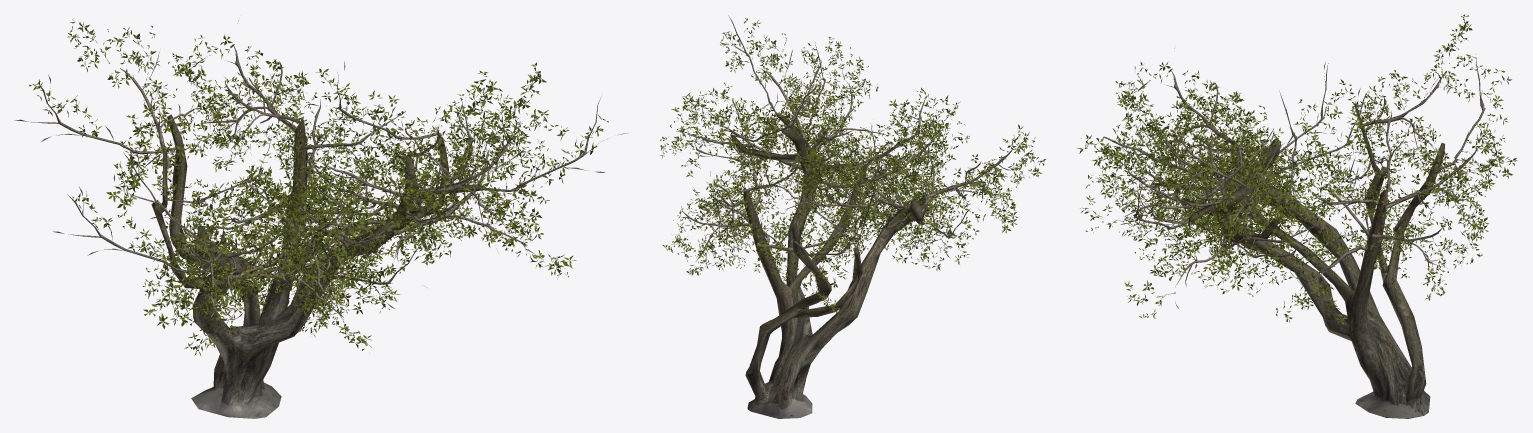
The model's file is ph_island_tree2.glb.
3 views of the same model, side by side, from view 1: azimuth 30°, elevation 25°; view 2: azimuth 150°, elevation 25°; view 3: azimuth 270°, elevation 25° (orthographic). The views are drawn at different scales.
Parts seen in each view (by area): view 1: island_tree_02_LOD0; view 2: island_tree_02_LOD0; view 3: island_tree_02_LOD0.
Part boxes in pixels (bbox=[...]): island_tree_02_LOD0: bbox=[14, 19, 627, 418]; island_tree_02_LOD0: bbox=[660, 15, 1045, 418]; island_tree_02_LOD0: bbox=[1077, 14, 1517, 418].
Size of the model in its own units: 4.21 by 3.4 by 4.07.
3 materials, 3 textured.
